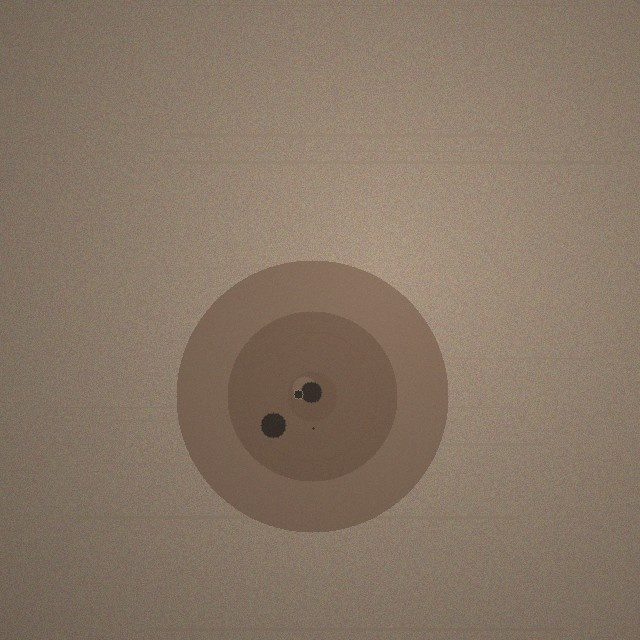shrinkage: (176, 260, 448, 532)
